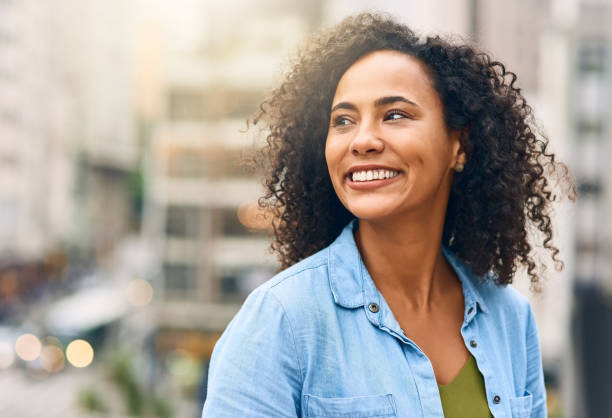without mask: (300, 41, 465, 228)
